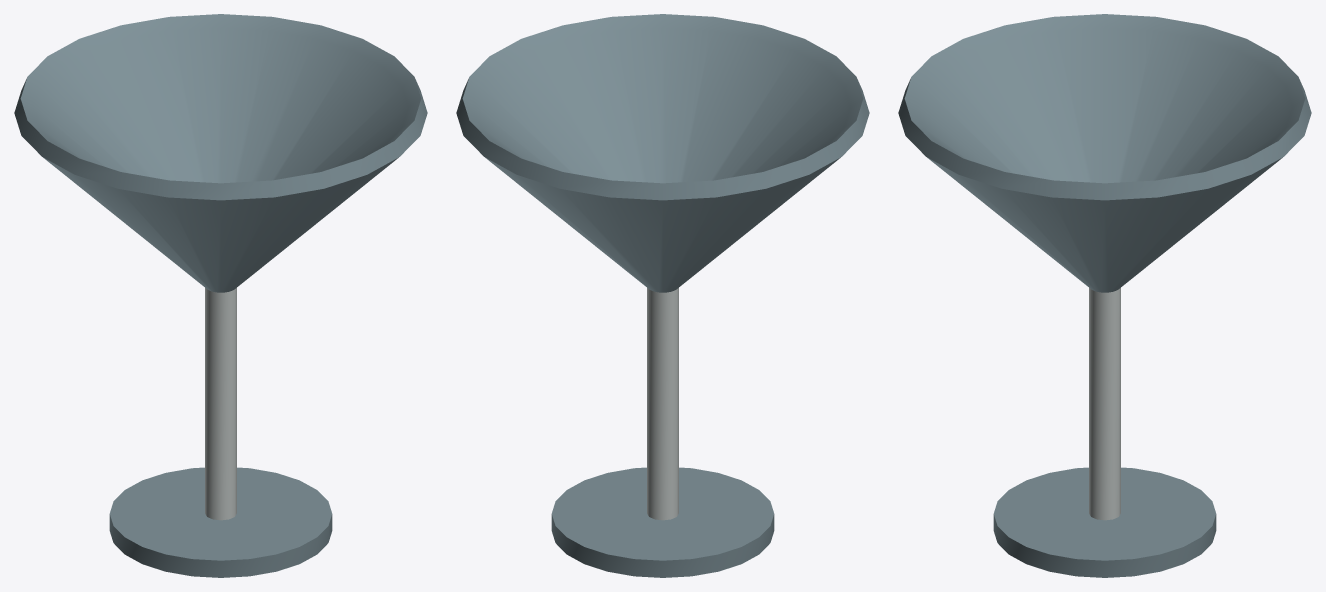
Rendered from cocktail-glass.glb.
The picture shows the model from 3 angles, left to right: view 1: azimuth 30°, elevation 25°; view 2: azimuth 150°, elevation 25°; view 3: azimuth 270°, elevation 25°; orthographic projection.
Parts seen in each view (by area): view 1: conical_bowl, foot, stem; view 2: conical_bowl, foot, stem; view 3: conical_bowl, foot, stem.
Boxes of the visible parts, x1,y1,x2,y2 form: conical_bowl: (14, 14, 427, 292); foot: (109, 467, 332, 577); stem: (205, 288, 236, 520); conical_bowl: (456, 14, 869, 292); foot: (551, 467, 774, 577); stem: (647, 288, 678, 520); conical_bowl: (898, 14, 1311, 292); foot: (993, 467, 1216, 577); stem: (1089, 288, 1120, 520).
Size of the model in its own units: 0.13 by 0.15 by 0.13.
